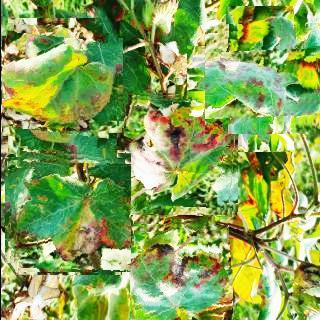blight: (6, 149, 130, 272), (115, 92, 238, 215), (0, 25, 116, 145), (204, 24, 314, 134), (125, 217, 232, 320)
